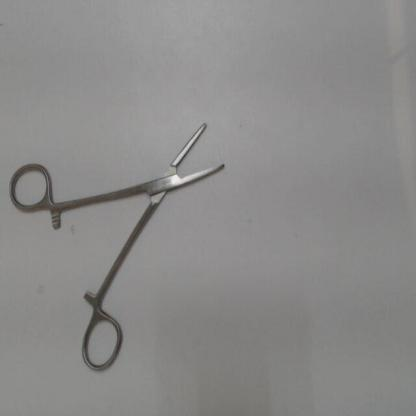Mayo Needle Holder: (5, 111, 237, 380)
